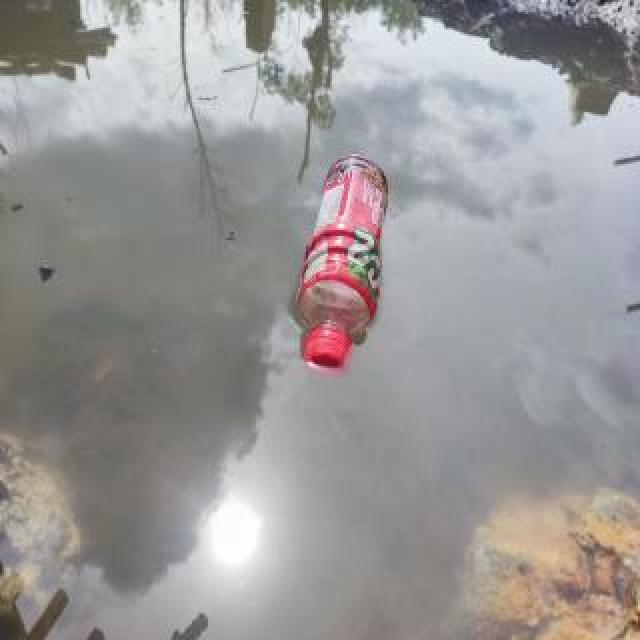bottle: (295, 145, 393, 379)
